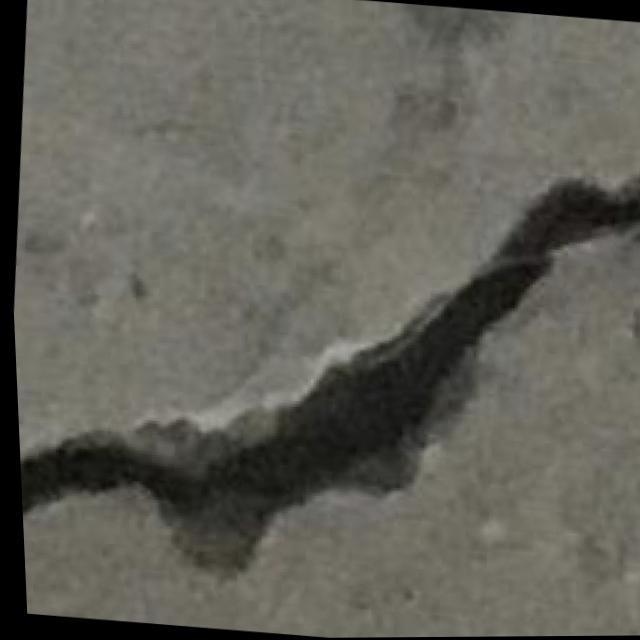Crack: (5, 141, 640, 640)
